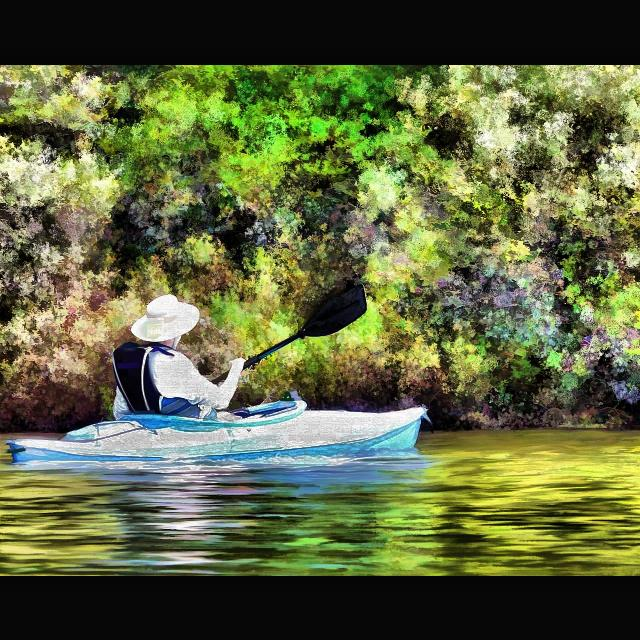kayak: (5, 402, 432, 466)
